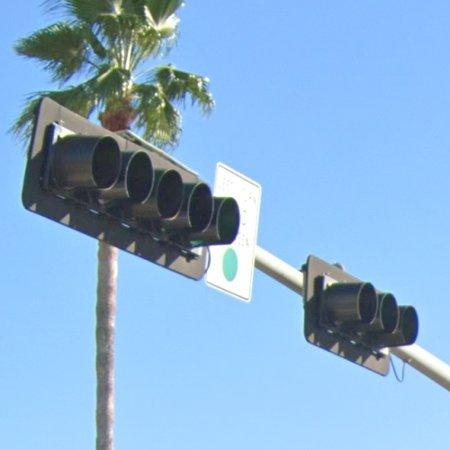traffic lights: (22, 99, 207, 279)
